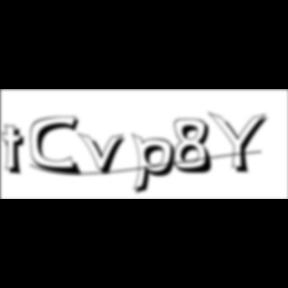8: (174, 117, 220, 176)
C: (31, 115, 86, 178)
Y: (208, 110, 274, 176)
p: (132, 132, 182, 198)
t: (1, 124, 32, 179)
v: (78, 131, 132, 177)
